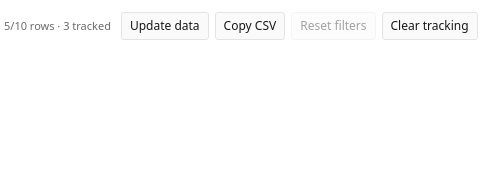
ToolbarActions › arms rather than wiping on the first Clear tracking click
Click the button "Clear tracking" at (430, 26), box 382,12 -> 478,40
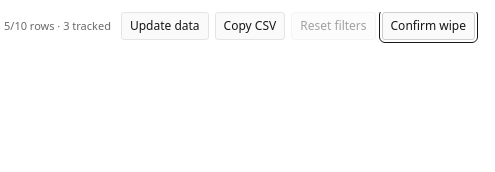
Check: the button "Confirm wipe" is shown, box 382,12 -> 475,40
